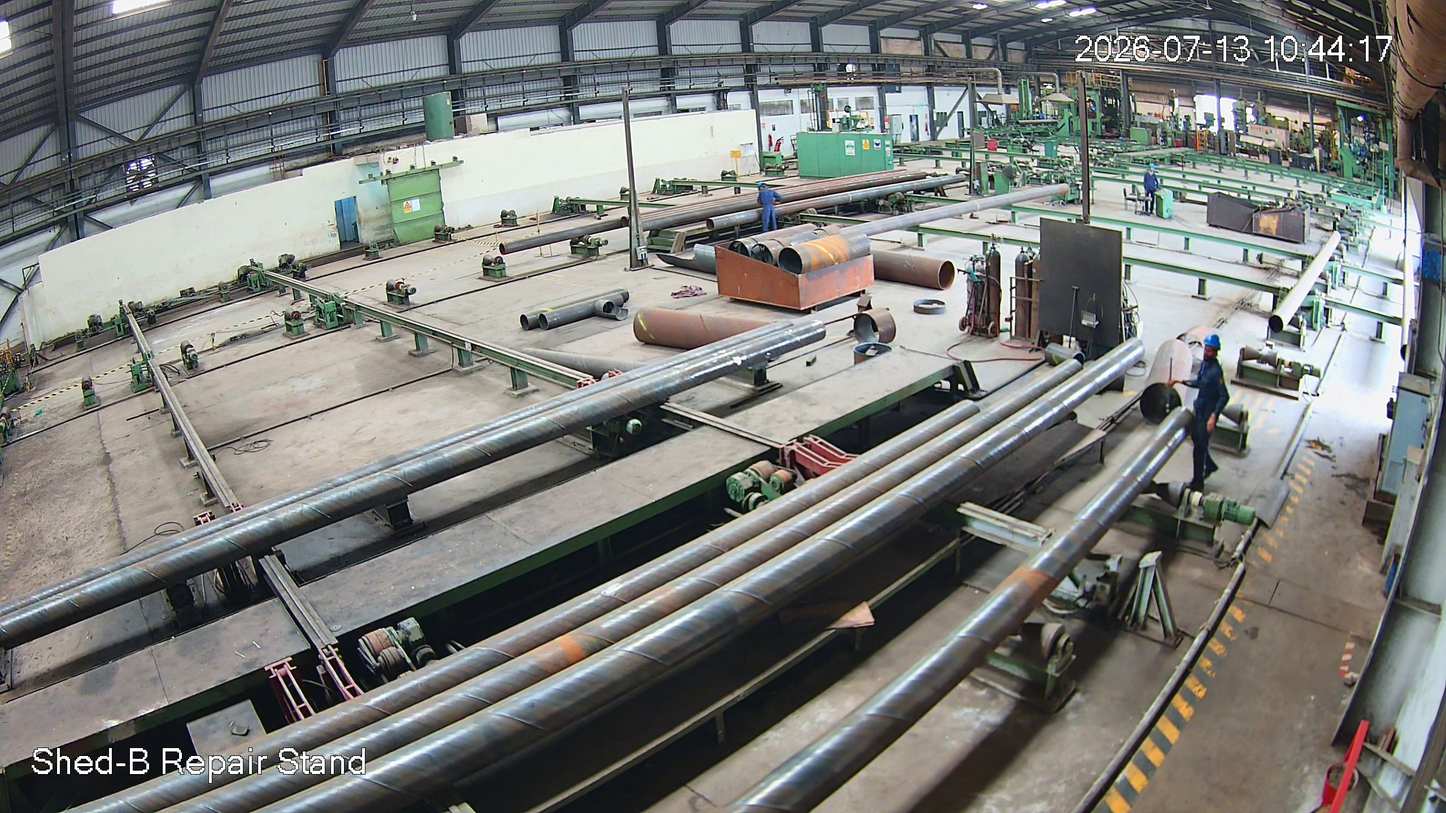Helmet: (1201, 332, 1224, 364)
Person: (1190, 334, 1226, 492)
